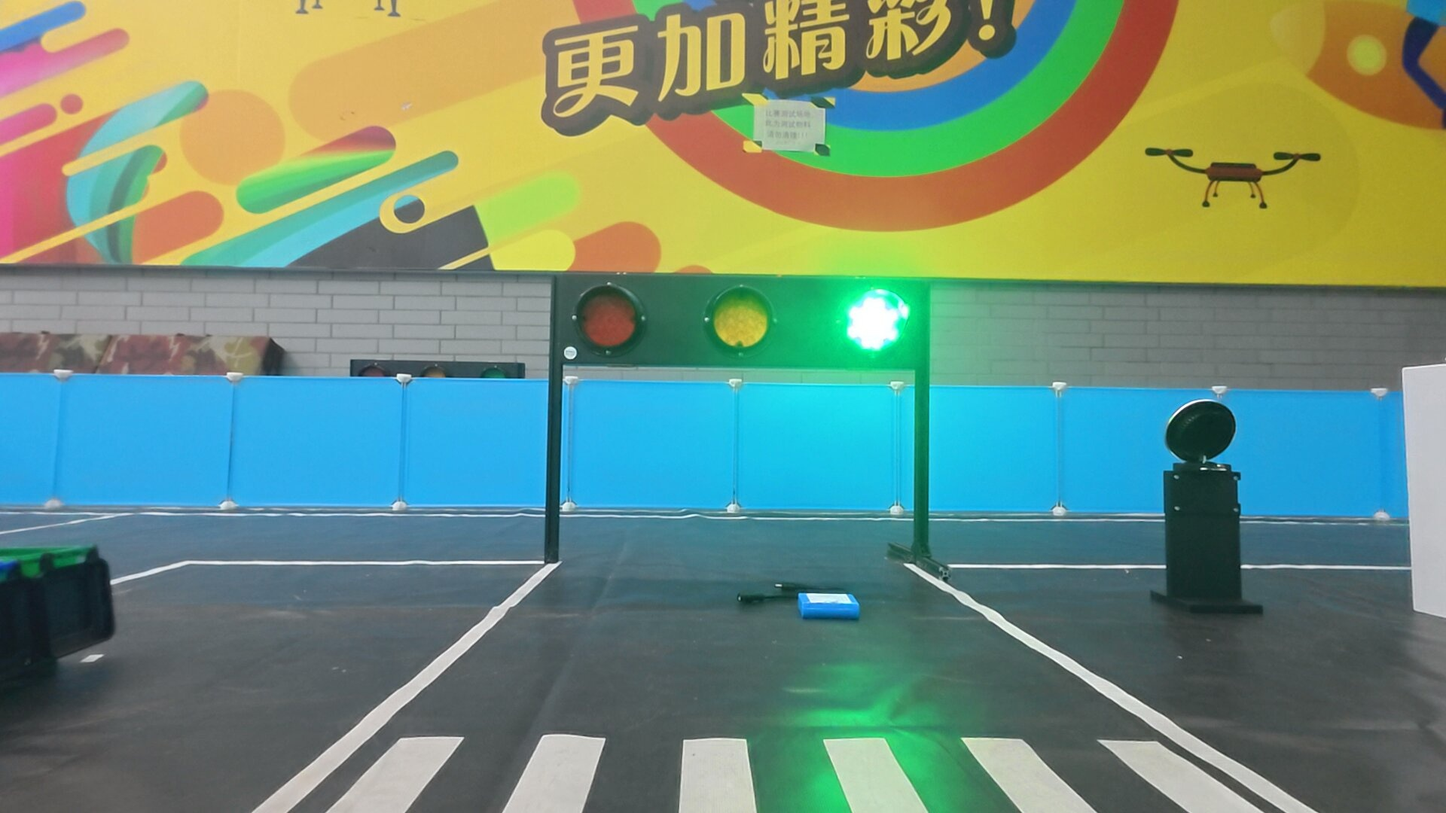go: (840, 283, 914, 362)
